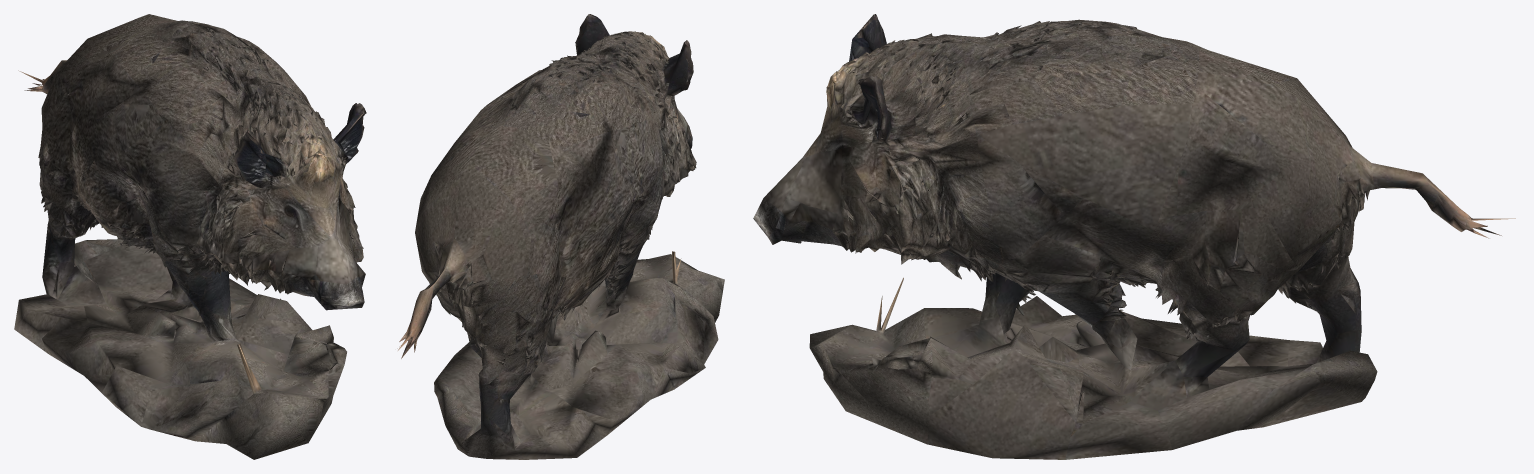
Rendered from cinghiale.glb.
The picture shows the model from 3 angles, left to right: view 1: azimuth 30°, elevation 25°; view 2: azimuth 150°, elevation 25°; view 3: azimuth 270°, elevation 25°; orthographic projection. The views are drawn at different scales.
Size of the model in its own units: 0.7162 by 1.06 by 1.87.
1 material, 1 textured.
